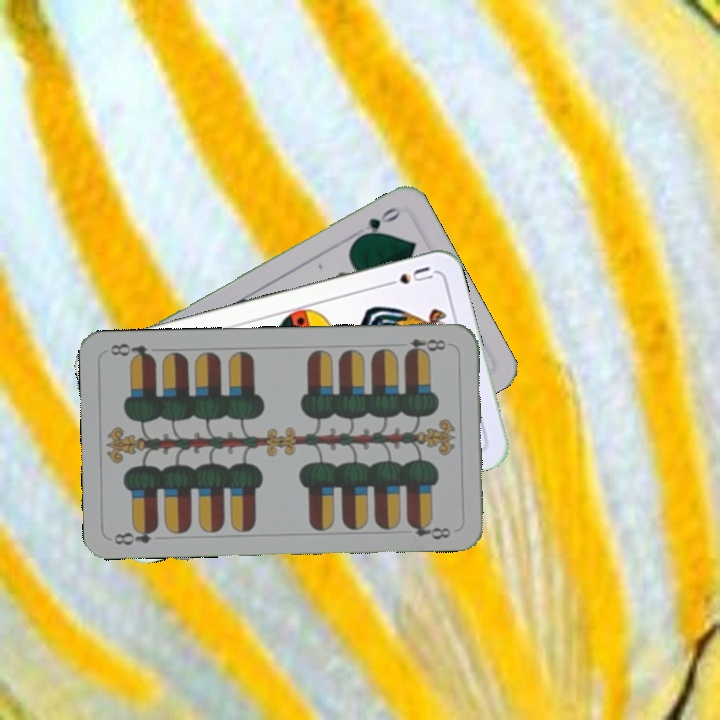E8: (110, 522, 161, 548), (401, 334, 453, 358)
GO: (352, 203, 404, 243)
SU: (378, 262, 436, 290)
